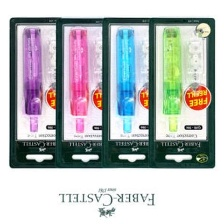book: (147, 13, 219, 170), (99, 11, 165, 170), (53, 15, 119, 170), (9, 15, 71, 169)
correction_fluid: (66, 25, 92, 134), (114, 26, 139, 135), (21, 26, 46, 134), (162, 26, 186, 133), (184, 25, 206, 91)
